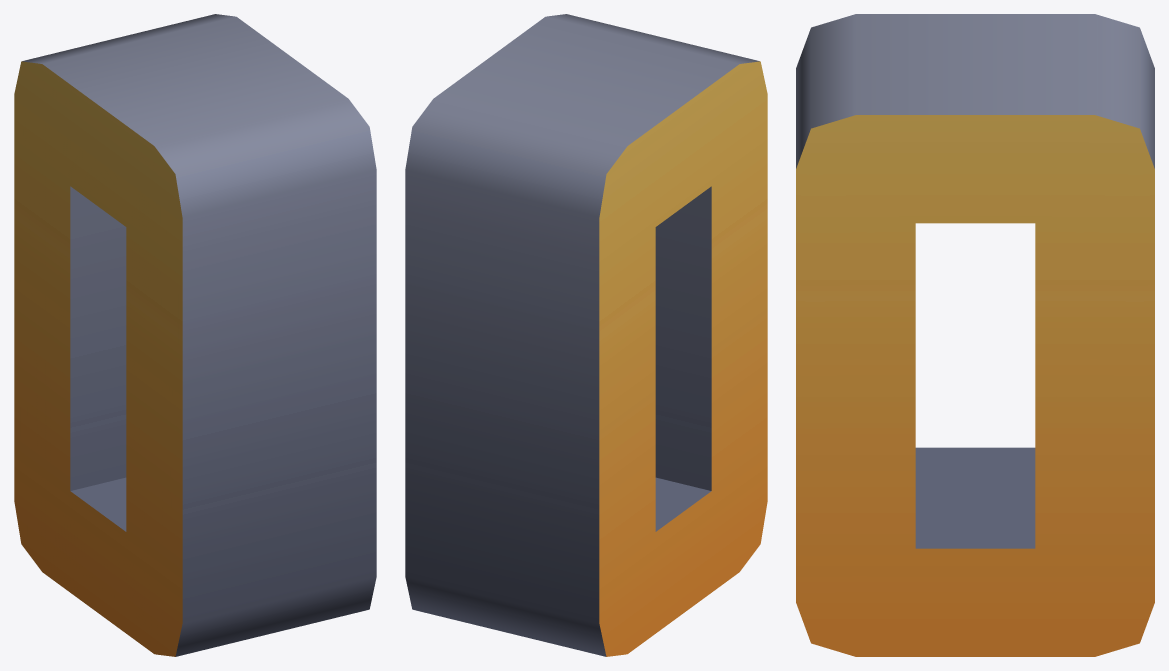
File: number-0.glb
3 renders of one model, left to right at view 1: azimuth 30°, elevation 25°; view 2: azimuth 150°, elevation 25°; view 3: azimuth 270°, elevation 25°, orthographic. The views are drawn at different scales.
Visible parts, largest first — view 1: number-0; view 2: number-0; view 3: number-0.
Part boxes in pixels (x1=…): number-0: x1=14, y1=14, x2=376, y2=656; number-0: x1=405, y1=14, x2=767, y2=656; number-0: x1=796, y1=14, x2=1154, y2=656.
Bounding box in the file's own units: 0.2 × 0.5 × 0.3.
1 material, 1 textured.
